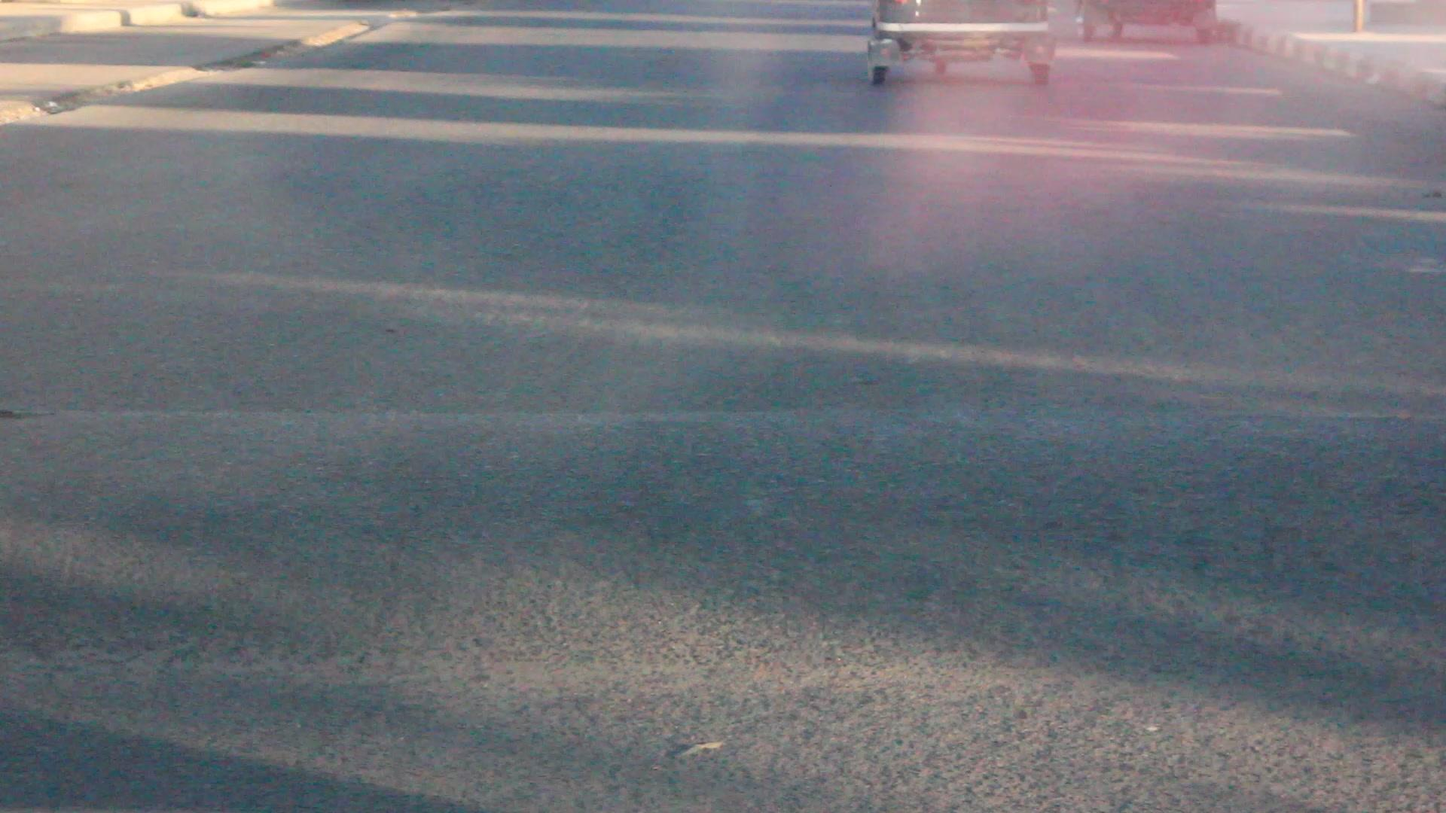Bump: (0, 399, 1446, 676)
